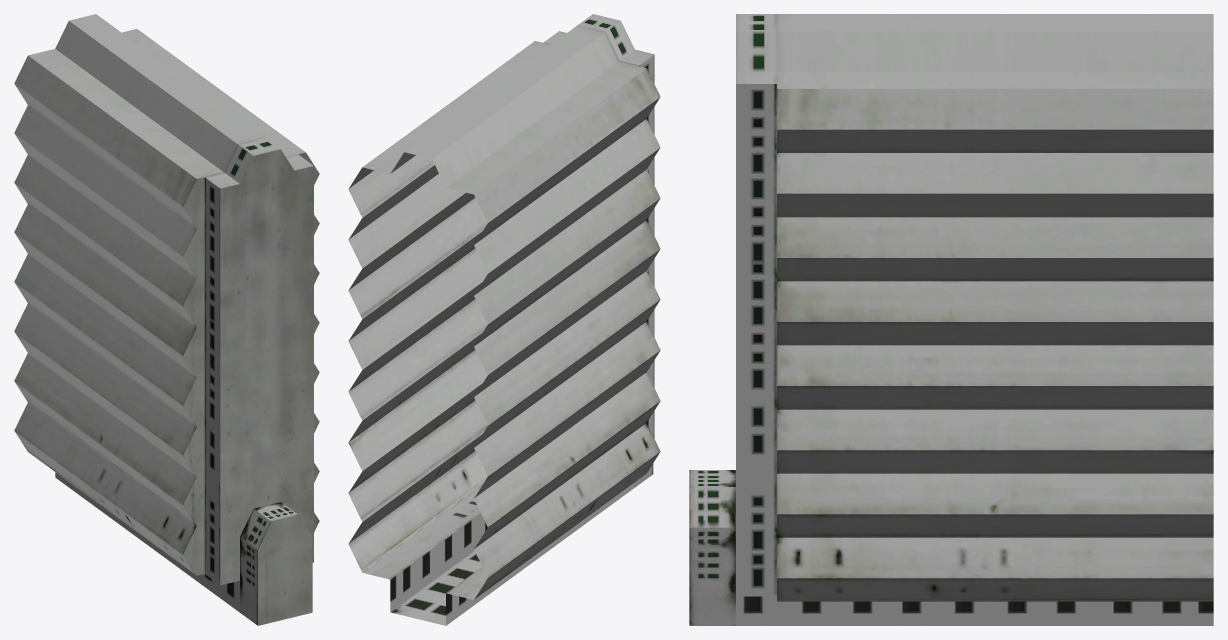
File: silos.obj
3 renders of one model, left to right at view 1: azimuth 30°, elevation 25°; view 2: azimuth 150°, elevation 25°; view 3: azimuth 270°, elevation 25°, orthographic. The views are drawn at different scales.
Visible parts, largest first — view 1: silos; view 2: silos; view 3: silos.
Part boxes in pixels (bbox=[...]): silos: bbox=[14, 14, 319, 625]; silos: bbox=[348, 14, 660, 625]; silos: bbox=[689, 14, 1213, 625].
Bounding box in the file's own units: 10.49 × 33.31 × 27.01.
Materials: 1 (1 with a texture image).
